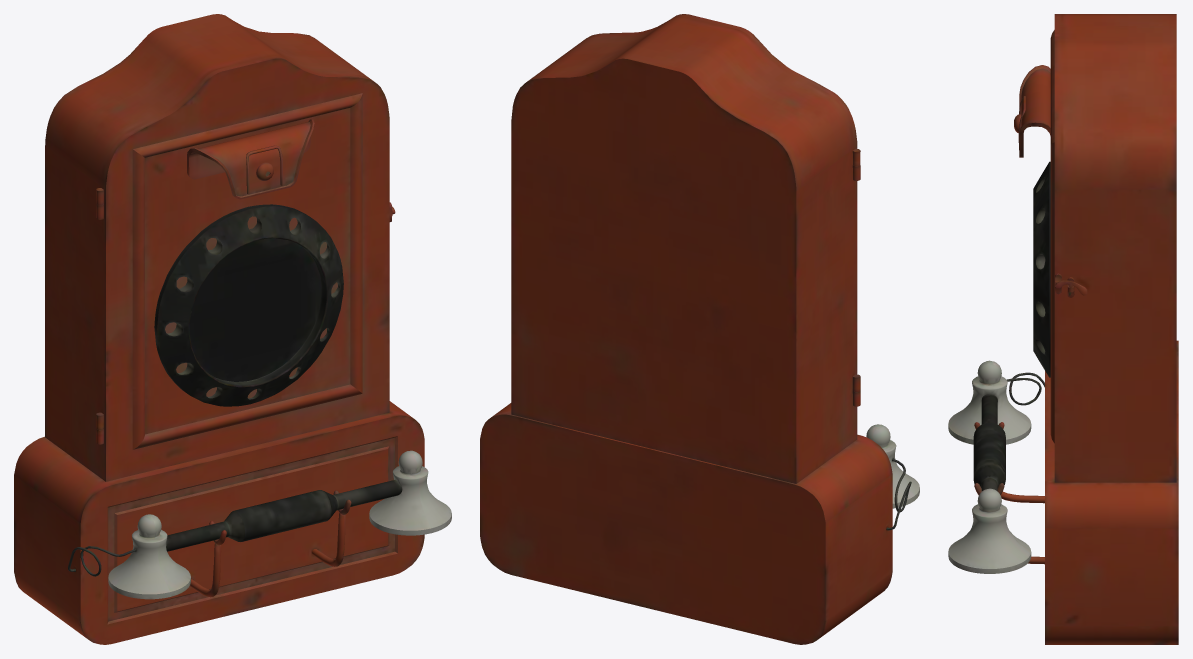
File: vintage_telephone_wall_clock.glb
3 renders of one model, left to right at view 1: azimuth 30°, elevation 25°; view 2: azimuth 150°, elevation 25°; view 3: azimuth 270°, elevation 25°, orthographic.
Parts seen in each view (by area): view 1: vintage_telephone_wall_clock; view 2: vintage_telephone_wall_clock; view 3: vintage_telephone_wall_clock.
Boxes of the visible parts, x1,y1,x2,y2 form: vintage_telephone_wall_clock: (14,14,451,644); vintage_telephone_wall_clock: (480,14,919,644); vintage_telephone_wall_clock: (948,14,1178,644).
Size of the model in its own units: 0.3428 by 0.5012 by 0.1925.
2 materials, 2 textured.
